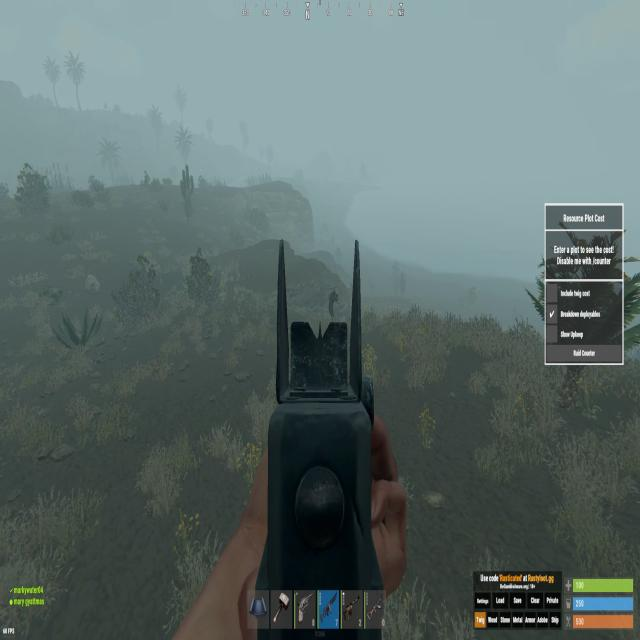Player: (327, 284, 340, 321)
